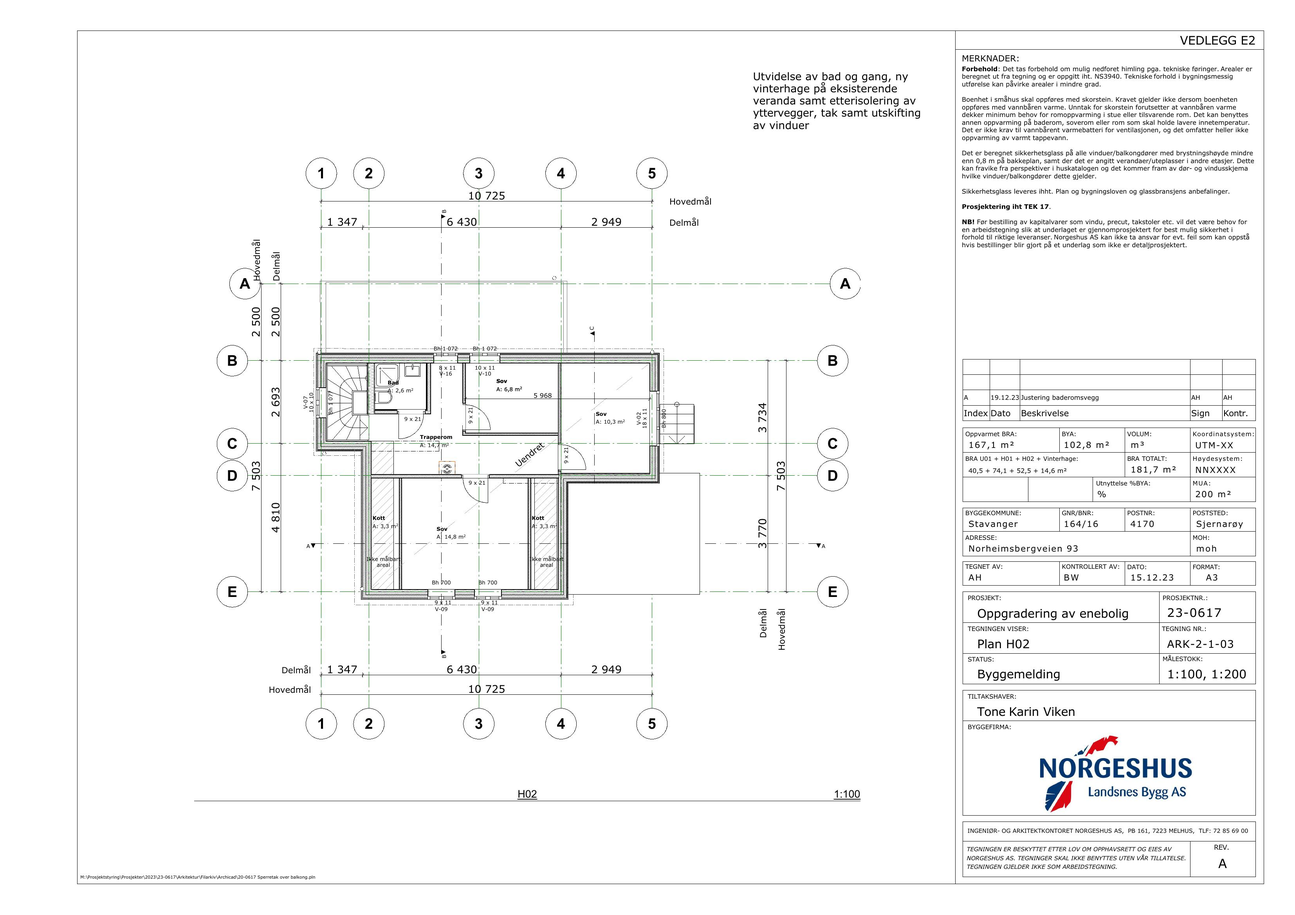plantegning: (315, 353, 698, 600)
